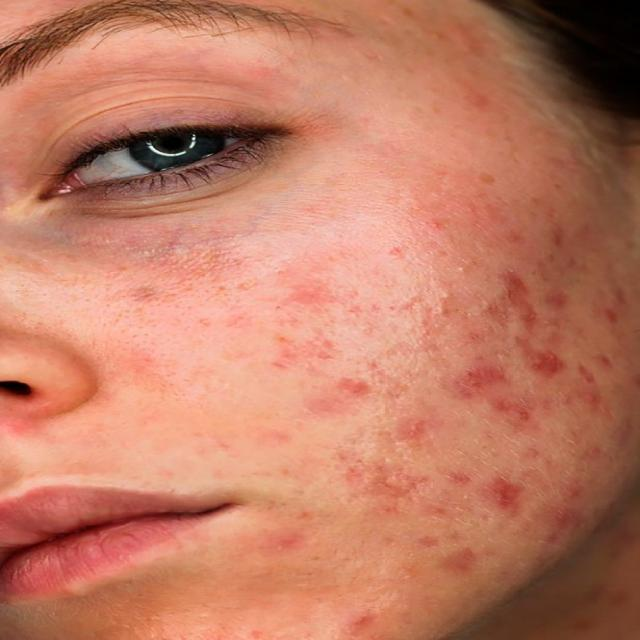Acne: (456, 268, 630, 416), (258, 260, 354, 368), (442, 20, 506, 114), (474, 200, 576, 253), (464, 474, 534, 526), (421, 548, 506, 580), (346, 588, 404, 625), (319, 370, 386, 400), (274, 512, 316, 552), (382, 413, 427, 450)
